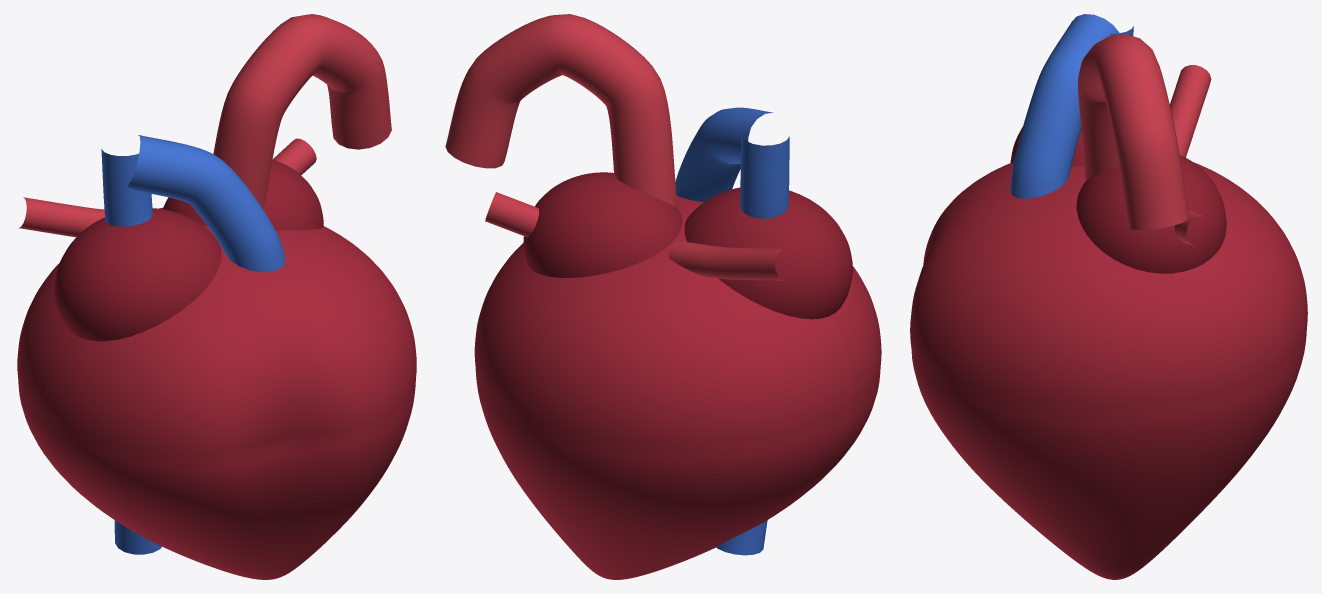
The model's file is heart.glb.
3 views of the same model, side by side, from view 1: azimuth 30°, elevation 25°; view 2: azimuth 150°, elevation 25°; view 3: azimuth 270°, elevation 25° (orthographic). The views are drawn at different scales.
Parts seen in each view (by area): view 1: Ventricles, Aorta, AtriumRight, PulmonaryTrunk, AtriumLeft, VenaCavaSuperior, PulmonaryVeinLeft, PulmonaryVeinRight, VenaCavaInferior; view 2: Ventricles, Aorta, AtriumRight, AtriumLeft, PulmonaryTrunk, VenaCavaSuperior, PulmonaryVeinLeft, PulmonaryVeinRight, VenaCavaInferior; view 3: Ventricles, Aorta, AtriumLeft, PulmonaryTrunk, PulmonaryVeinLeft.
Boxes of the visible parts, x1,y1,x2,y2 form: Ventricles: [17, 207, 416, 579]; Aorta: [213, 14, 391, 208]; AtriumRight: [54, 208, 221, 341]; PulmonaryTrunk: [125, 135, 284, 272]; AtriumLeft: [163, 159, 323, 230]; VenaCavaSuperior: [101, 149, 152, 226]; PulmonaryVeinLeft: [19, 197, 104, 237]; PulmonaryVeinRight: [273, 138, 316, 175]; VenaCavaInferior: [114, 520, 161, 554]; Ventricles: [474, 195, 881, 579]; Aorta: [445, 14, 677, 208]; AtriumRight: [684, 187, 852, 319]; AtriumLeft: [523, 172, 682, 277]; PulmonaryTrunk: [675, 107, 772, 201]; VenaCavaSuperior: [740, 133, 789, 218]; PulmonaryVeinLeft: [668, 241, 785, 280]; PulmonaryVeinRight: [485, 192, 539, 237]; VenaCavaInferior: [716, 520, 767, 555]; Ventricles: [910, 162, 1307, 579]; Aorta: [1078, 34, 1188, 230]; AtriumLeft: [1076, 155, 1226, 273]; PulmonaryTrunk: [1010, 14, 1119, 198]; PulmonaryVeinLeft: [1170, 65, 1211, 157].
Size of the model in its own units: 7.1 by 9.95 by 6.43.
